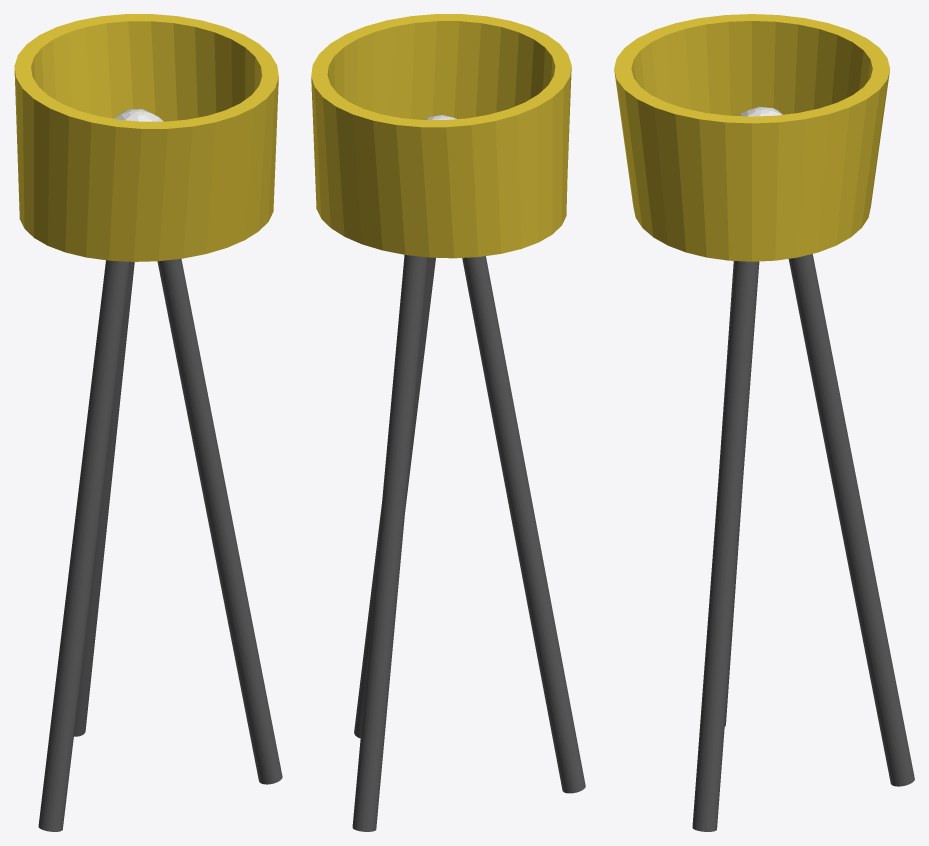
Rendered from Lamba.fbx.
3 views of the same model, side by side, from view 1: azimuth 30°, elevation 25°; view 2: azimuth 150°, elevation 25°; view 3: azimuth 270°, elevation 25° (orthographic).
Visible parts, largest first — view 1: Sphere; view 2: Sphere; view 3: Sphere.
Boxes of the visible parts, box(x1,y1,x2,y2) form: Sphere: box(14, 14, 282, 831); Sphere: box(311, 14, 585, 831); Sphere: box(614, 14, 914, 831).
Bounding box in the file's own units: 167 × 479 × 183.
